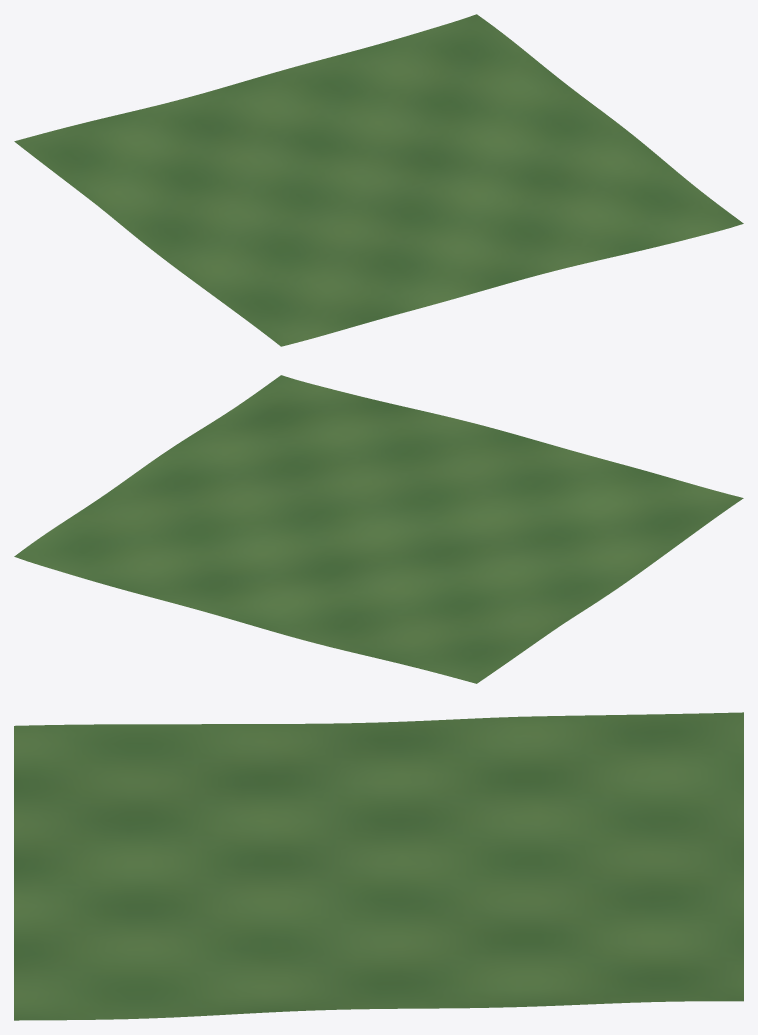
Rendered from chunk_11_2.glb.
3 renders of one model, top to bottom at view 1: azimuth 30°, elevation 25°; view 2: azimuth 150°, elevation 25°; view 3: azimuth 270°, elevation 25°, orthographic. The views are drawn at different scales.
Bounding box in the file's own units: 512 × 25.6 × 512.
